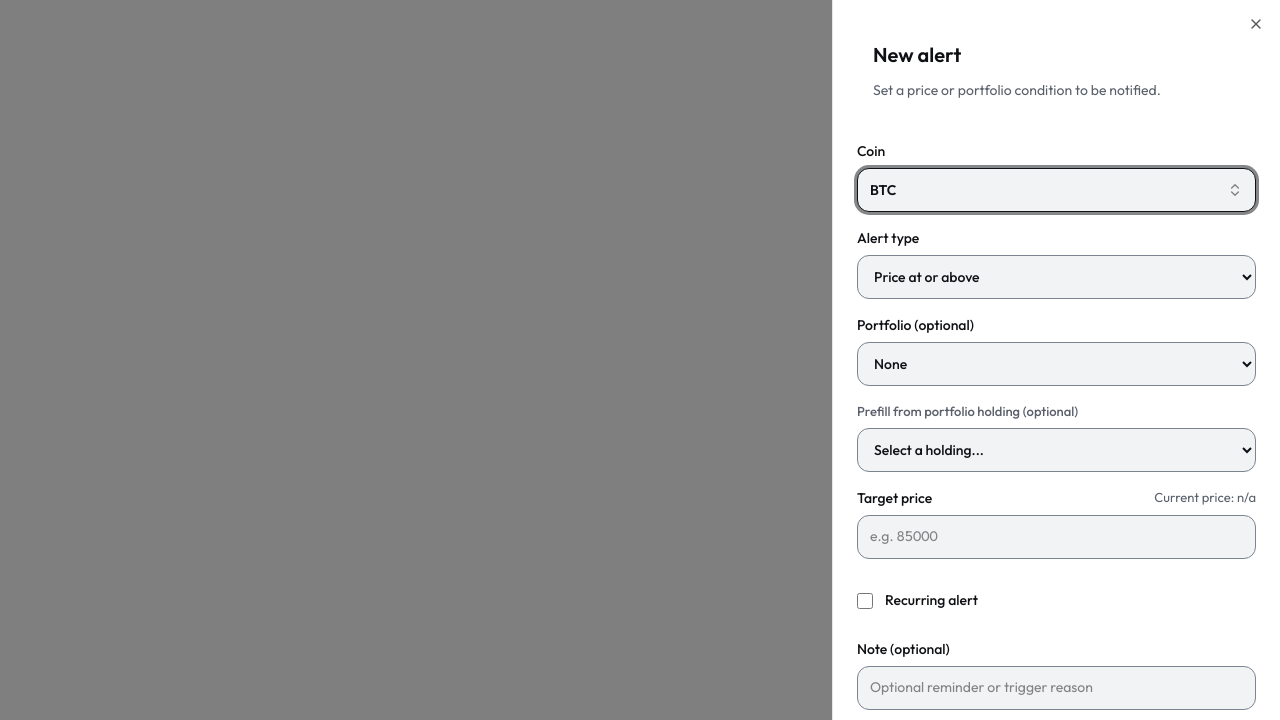
Test: AlertSheet › disables Create and shows waiting text when no live price is available for price_change_pct
Select "Price moves by a percent" in the dropdown labelled "Alert type" at x=1056, y=277, box [857,255,1256,299]
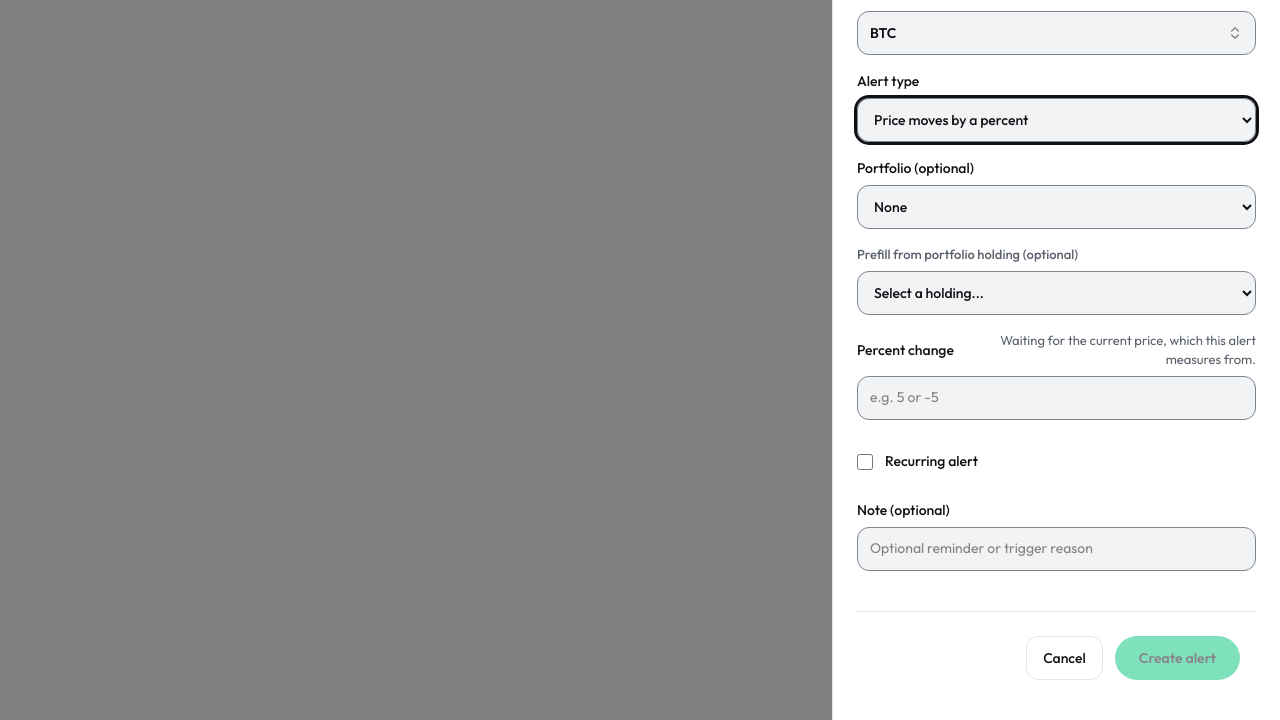
Now the text "Waiting for the current price, which this alert measures from." is shown, box [962,330,1256,370]
Now the button "Create alert" is disabled, box [1115,636,1240,680]
